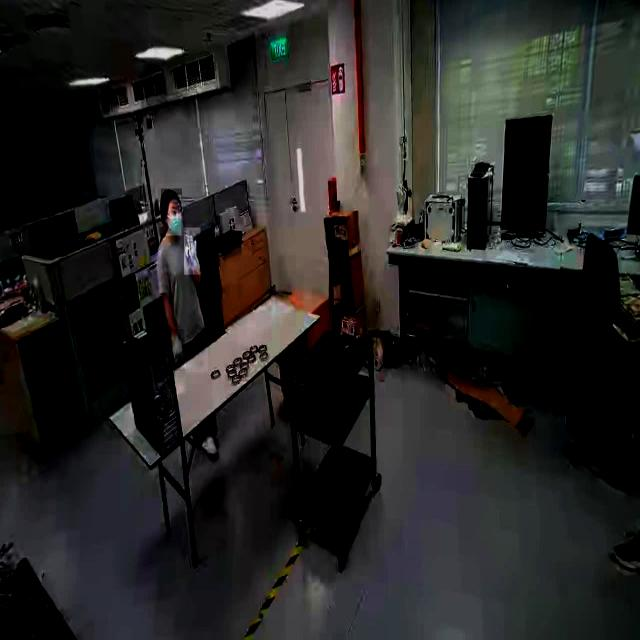face_mask: (166, 194, 182, 236)
hand_glove: (184, 228, 200, 274), (169, 329, 185, 371)
head_nohelmet: (160, 188, 182, 204)
person: (158, 183, 208, 373)
